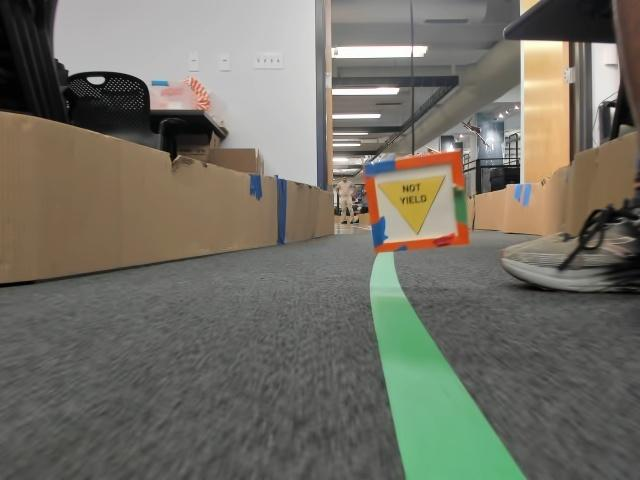Do Not Yield: (378, 182, 445, 237)
